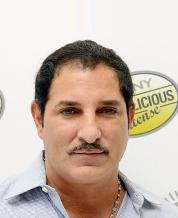face: (59, 100, 118, 163)
